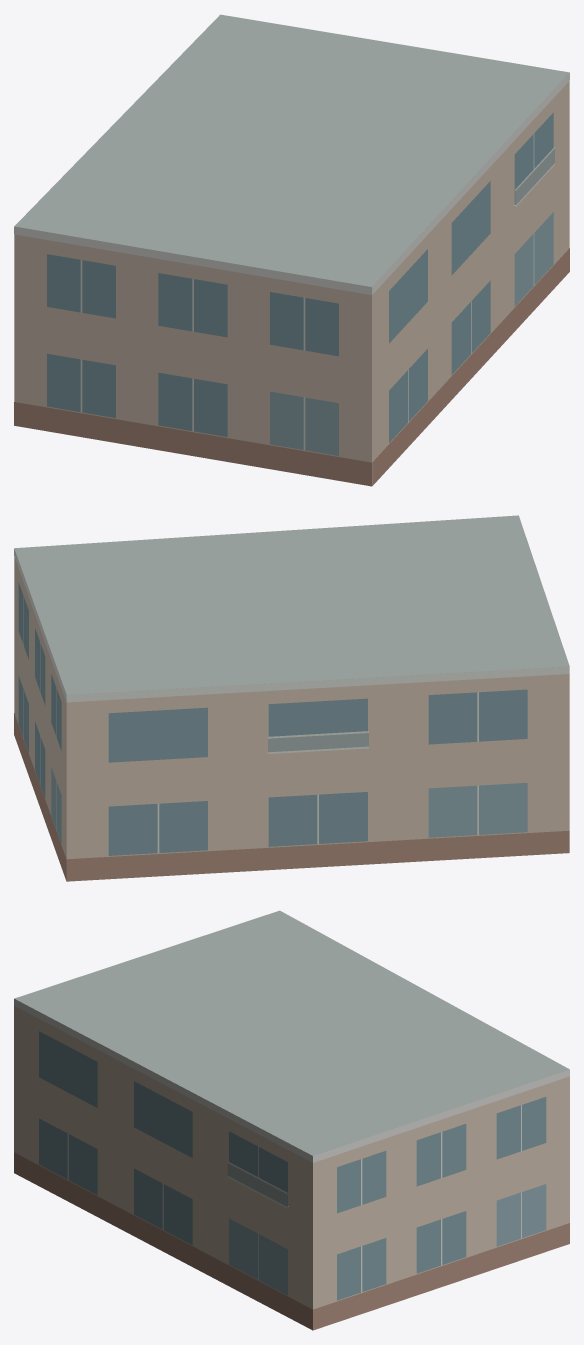
File: survey-upis-32536342.glb
3 renders of one model, top to bottom at view 1: azimuth 30°, elevation 25°; view 2: azimuth 150°, elevation 25°; view 3: azimuth 270°, elevation 25°, orthographic. The views are drawn at different scales.
Parts seen in each view (by area): view 1: survey-upis-32536342.tmp; view 2: survey-upis-32536342.tmp; view 3: survey-upis-32536342.tmp.
Part boxes in pixels (x1,y1,x2,y2): survey-upis-32536342.tmp: (14,14,569,486); survey-upis-32536342.tmp: (14,515,569,881); survey-upis-32536342.tmp: (14,910,569,1330).
Bounding box in the file's own units: 18.42 × 6.1 × 17.62.
